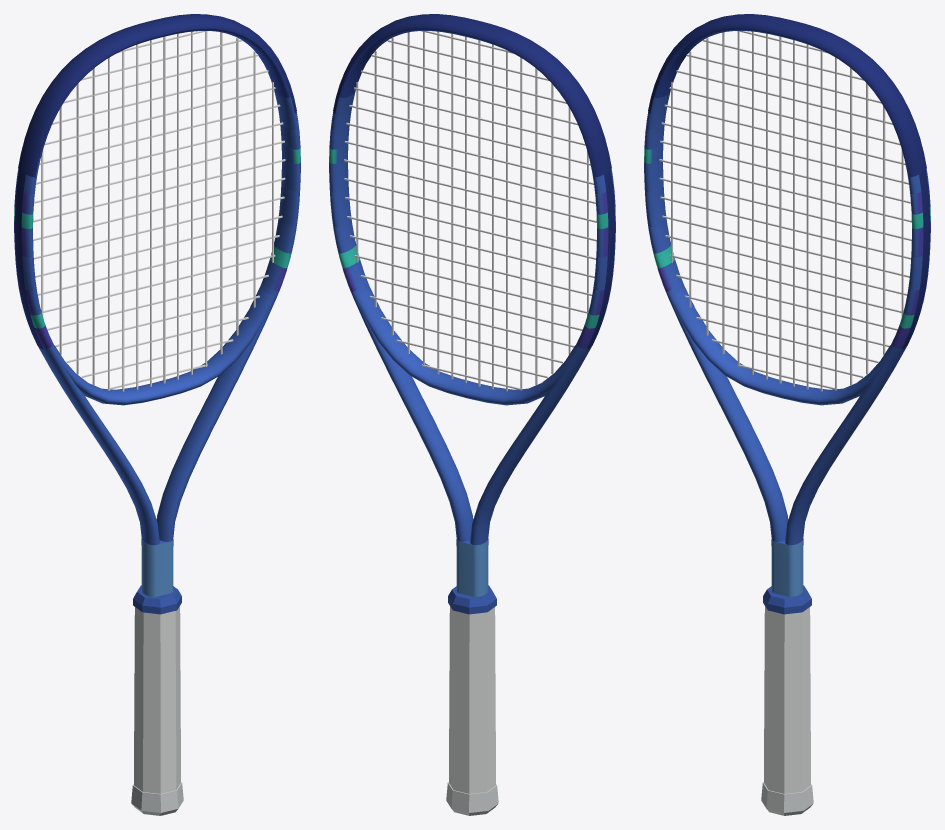
Rendered from yonex-ezone-98-plus-2025.glb.
3 views of the same model, side by side, from view 1: azimuth 30°, elevation 25°; view 2: azimuth 150°, elevation 25°; view 3: azimuth 330°, elevation 25° (orthographic).
Parts seen in each view (by area): view 1: frame, strings_mains, strings_crosses, grip, bumper, grommets, butt_cap, collar; view 2: frame, strings_mains, strings_crosses, grip, bumper, grommets, butt_cap, collar; view 3: frame, strings_mains, strings_crosses, grip, bumper, grommets, butt_cap, collar.
Part boxes in pixels (x1=…): frame: x1=14, y1=28, x2=300, y2=596; strings_mains: x1=41, y1=31, x2=273, y2=391; strings_crosses: x1=33, y1=31, x2=285, y2=389; grip: x1=134, y1=606, x2=180, y2=793; bumper: x1=18, y1=14, x2=296, y2=177; grommets: x1=14, y1=170, x2=43, y2=349; butt_cap: x1=131, y1=782, x2=183, y2=815; collar: x1=133, y1=585, x2=181, y2=614; frame: x1=329, y1=28, x2=615, y2=596; strings_mains: x1=356, y1=31, x2=588, y2=391; strings_crosses: x1=344, y1=31, x2=596, y2=390; grip: x1=449, y1=606, x2=495, y2=793; bumper: x1=333, y1=14, x2=611, y2=177; grommets: x1=586, y1=170, x2=615, y2=349; butt_cap: x1=446, y1=782, x2=498, y2=815; collar: x1=448, y1=585, x2=496, y2=614; frame: x1=644, y1=28, x2=930, y2=596; strings_mains: x1=671, y1=31, x2=903, y2=391; strings_crosses: x1=659, y1=31, x2=911, y2=389; grip: x1=764, y1=606, x2=810, y2=793; bumper: x1=648, y1=14, x2=926, y2=177; grommets: x1=901, y1=170, x2=930, y2=349; butt_cap: x1=761, y1=782, x2=813, y2=815; collar: x1=763, y1=585, x2=811, y2=614.
Bounding box in the file's own units: 0.2612 × 0.6988 × 0.0396.
